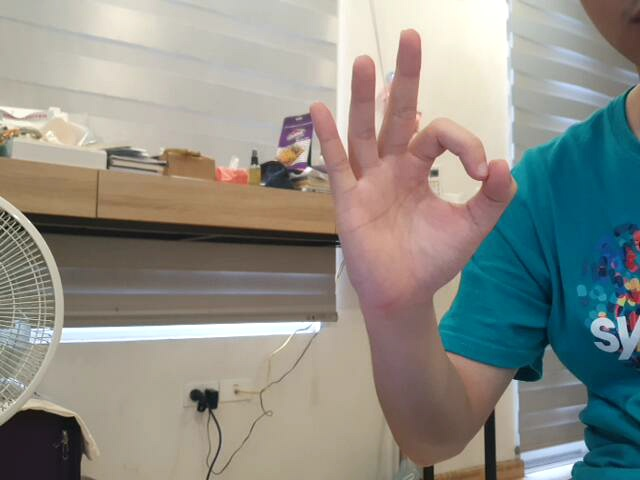ThankYou: (308, 22, 522, 308)
